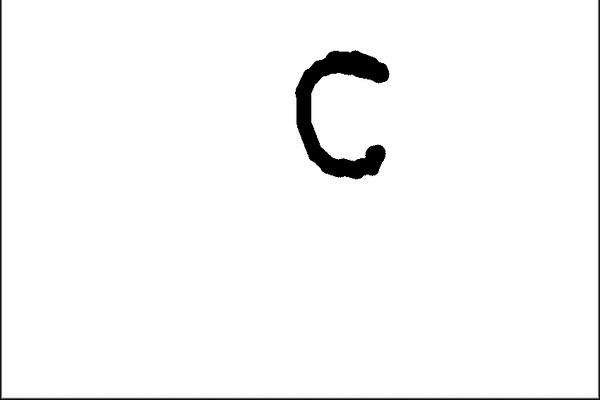C: (287, 47, 395, 184)
